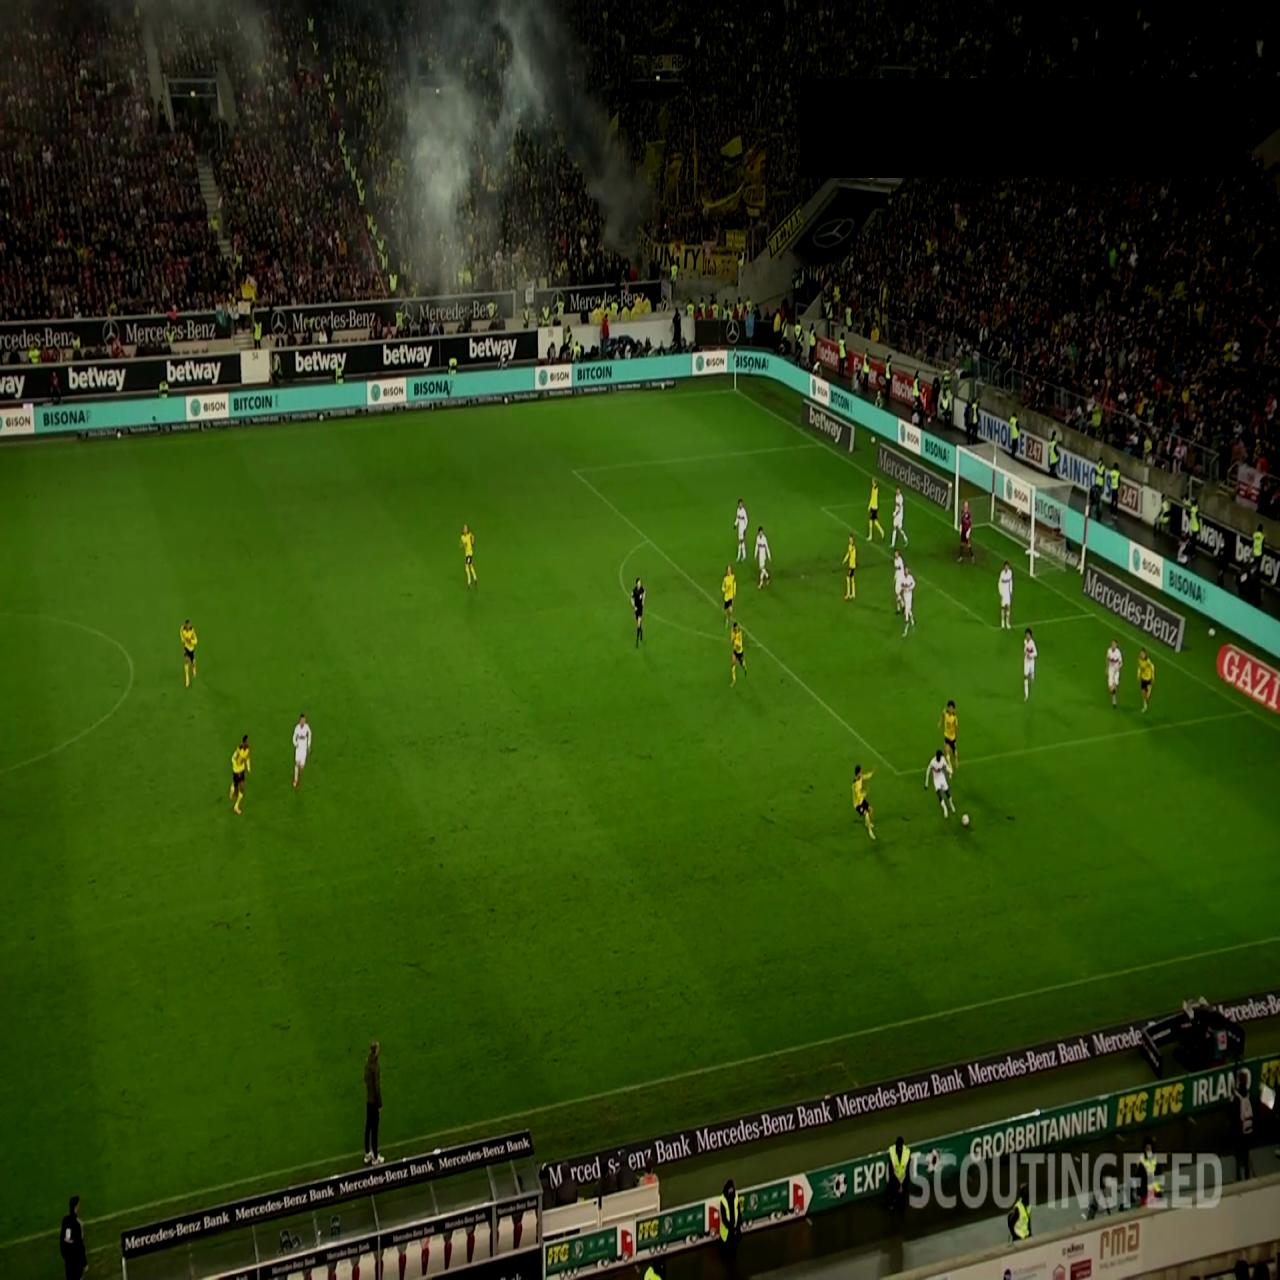ball: (961, 813, 971, 827)
goalkeeper: (956, 499, 974, 563)
player: (924, 748, 956, 819), (852, 764, 878, 842), (230, 734, 252, 814), (940, 699, 960, 773), (292, 712, 311, 788), (179, 618, 199, 688), (1106, 636, 1124, 709), (890, 483, 909, 550), (866, 475, 885, 542), (459, 523, 478, 590), (900, 563, 916, 639), (1137, 647, 1155, 714), (730, 621, 748, 687), (1023, 627, 1038, 702), (754, 525, 771, 589), (720, 563, 736, 629), (998, 560, 1013, 630), (733, 498, 749, 562), (842, 533, 857, 600), (894, 548, 906, 612)
referee: (631, 576, 645, 648)
